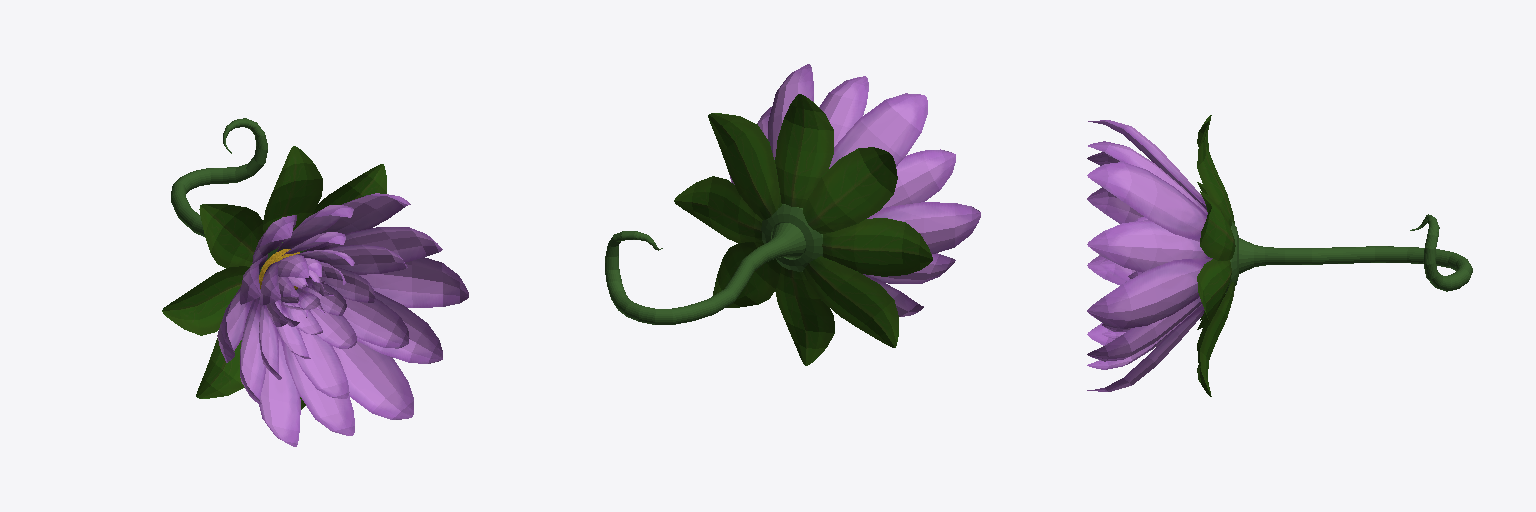
3 views of the same model, side by side, from view 1: azimuth 30°, elevation 25°; view 2: azimuth 150°, elevation 25°; view 3: azimuth 270°, elevation 25° (orthographic).
Parts seen in each view (by area): view 1: object_0; view 2: object_0; view 3: object_0.
Boxes of the visible parts, x1,y1,x2,y2 form: object_0: [162, 118, 468, 446]; object_0: [605, 64, 980, 365]; object_0: [1087, 115, 1472, 396].
Size of the model in its own units: 0.2223 by 0.2223 by 0.2865.
1 materials, 1 textured.